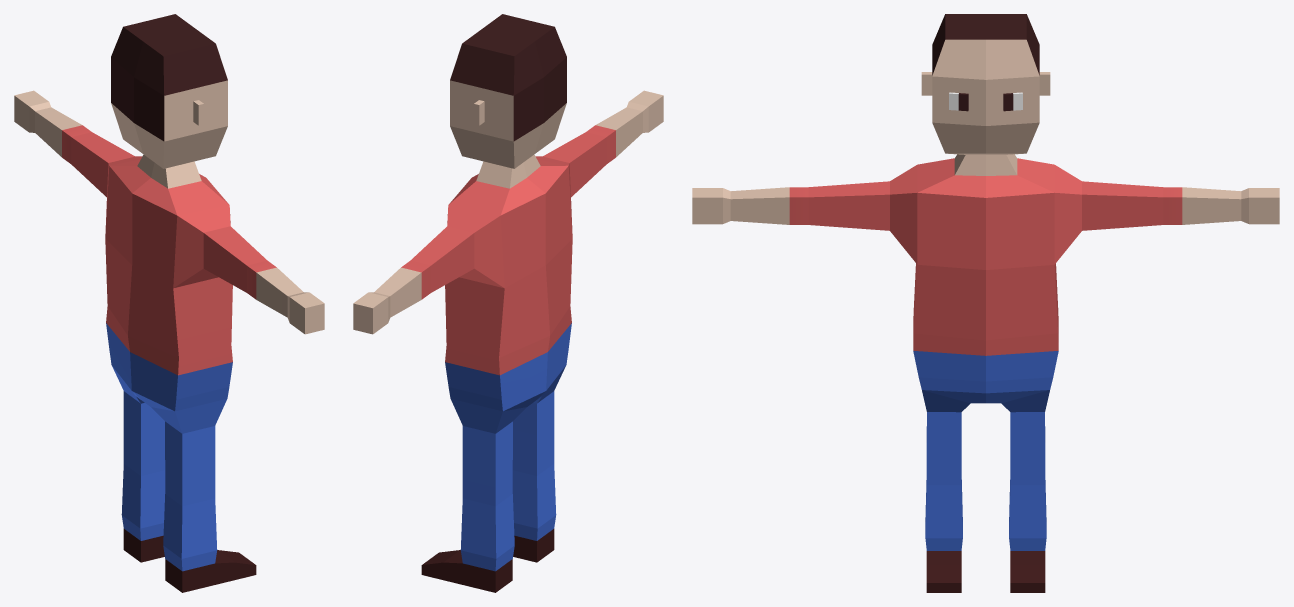
Rendered from Human.fbx.
3 views of the same model, side by side, from view 1: azimuth 30°, elevation 25°; view 2: azimuth 150°, elevation 25°; view 3: azimuth 270°, elevation 25° (orthographic).
Parts seen in each view (by area): view 1: Cube; view 2: Cube; view 3: Cube.
Part boxes in pixels (<box>): Cube: <box>14,14,324,592</box>; Cube: <box>353,14,663,592</box>; Cube: <box>692,14,1279,592</box>.
Size of the model in its own units: 24.64 by 127 by 125.
